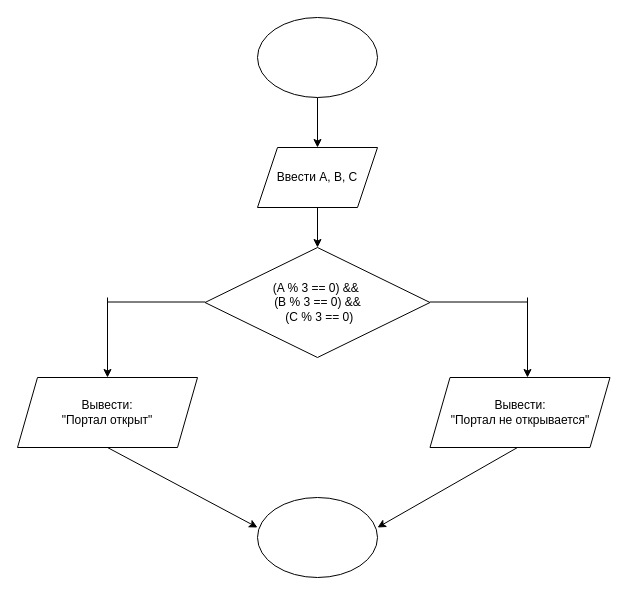
The diagram is 628 pixels wide and 595 high, and some of its shapes have lost their labels. Here are the shapes that lost their labels. From the top down, the centre of each, then its label:
the point at 317,57: НАЧАЛО
the point at 317,537: Конец
